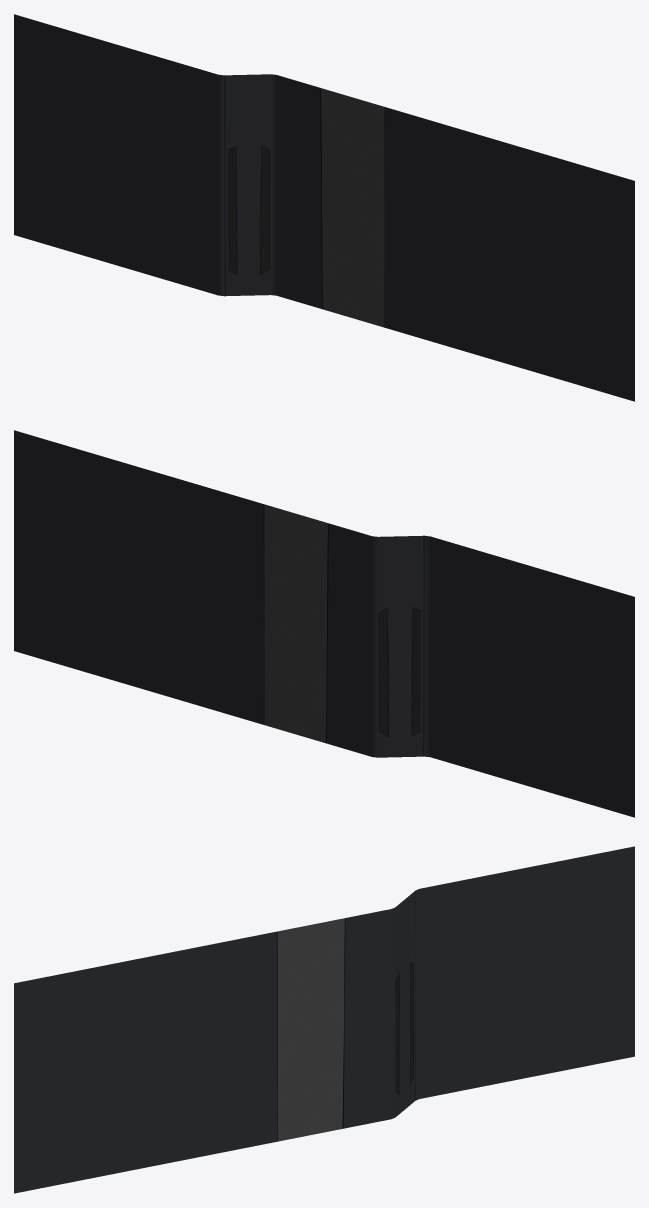
Rendered from case_right_wall.glb.
3 views of the same model, one above another, from view 1: azimuth 30°, elevation 25°; view 2: azimuth 210°, elevation 25°; view 3: azimuth 270°, elevation 25° (orthographic). The views are drawn at different scales.
Parts seen in each view (by area): view 1: Case_right_wall_low; view 2: Case_right_wall_low; view 3: Case_right_wall_low.
Part boxes in pixels (x1,y1,x2,y2): Case_right_wall_low: (14,14,634,401); Case_right_wall_low: (14,430,634,817); Case_right_wall_low: (14,846,634,1193).
Bounding box in the file's own units: 3.03 × 2.17 × 5.81.
Materials: 1 (1 with a texture image).
